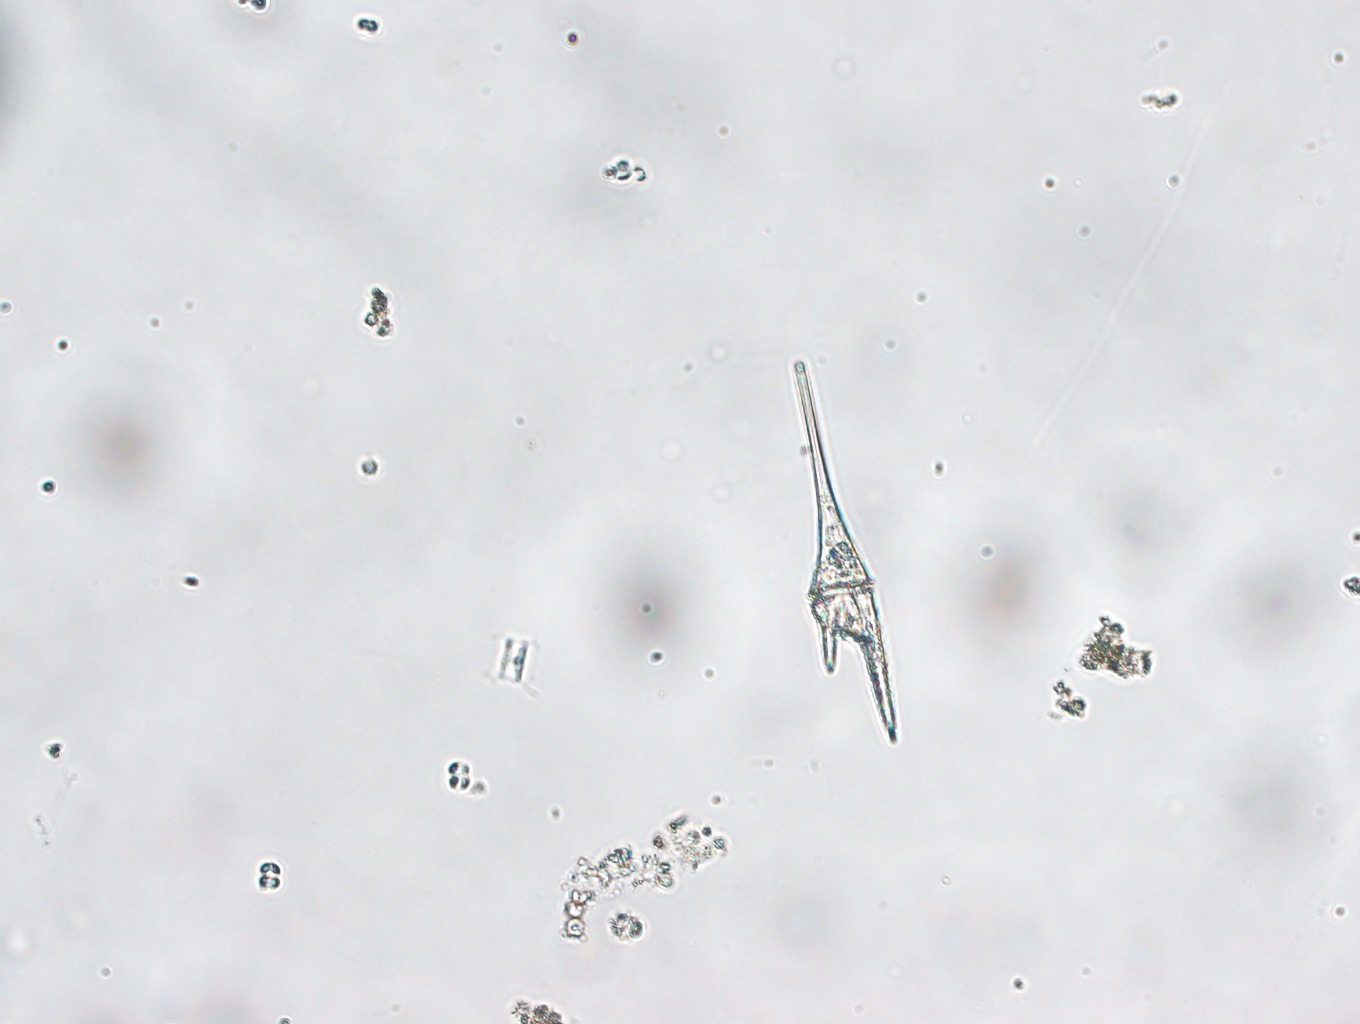ceratium furca: (783, 352, 908, 749)
